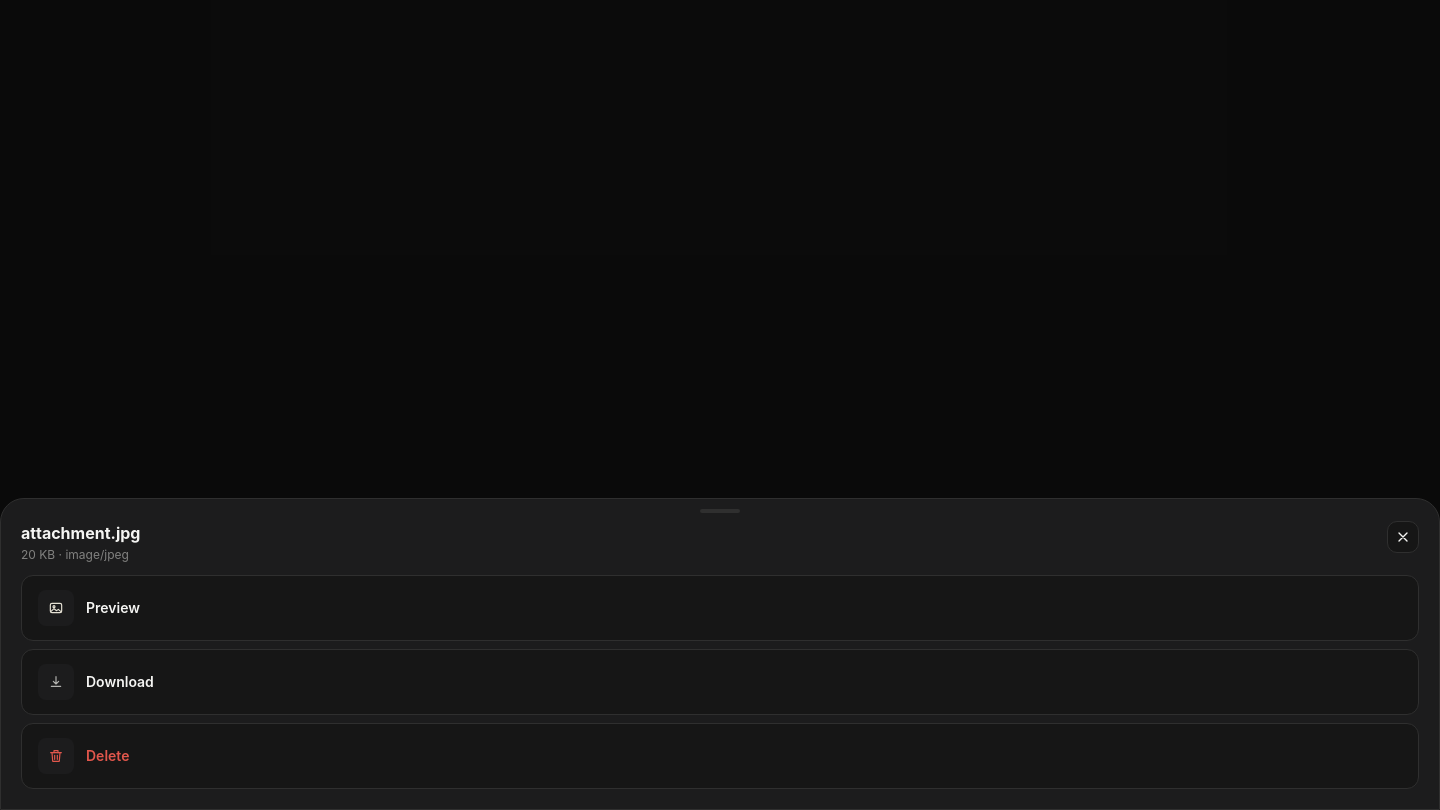
Test case: AttachmentActions › shows a deletion error inside the confirm step
Click the button "Delete". click: (56, 756)
box: [21,723,1419,789]
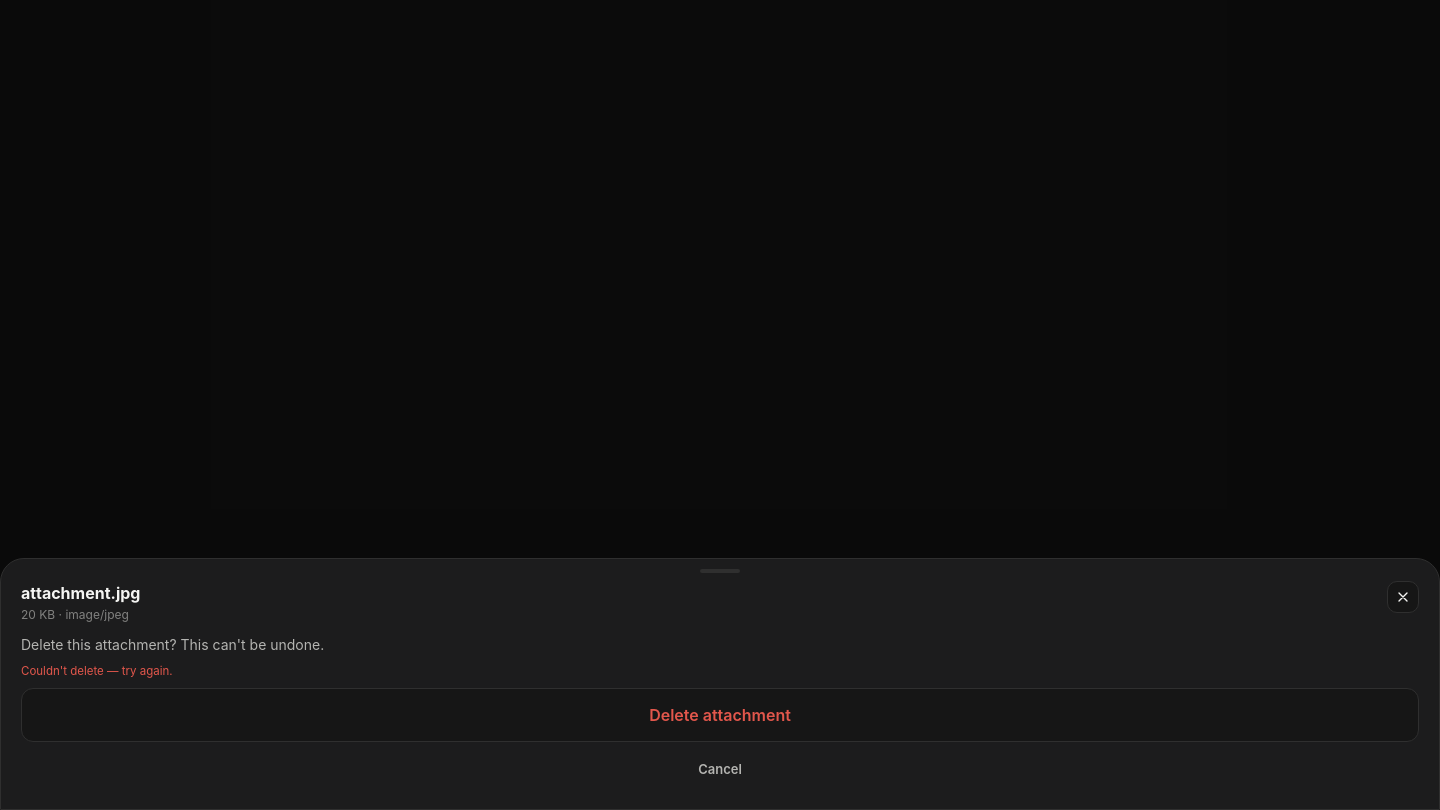
Now the text "Couldn't delete — try again." is shown, box [21,664,173,678]
